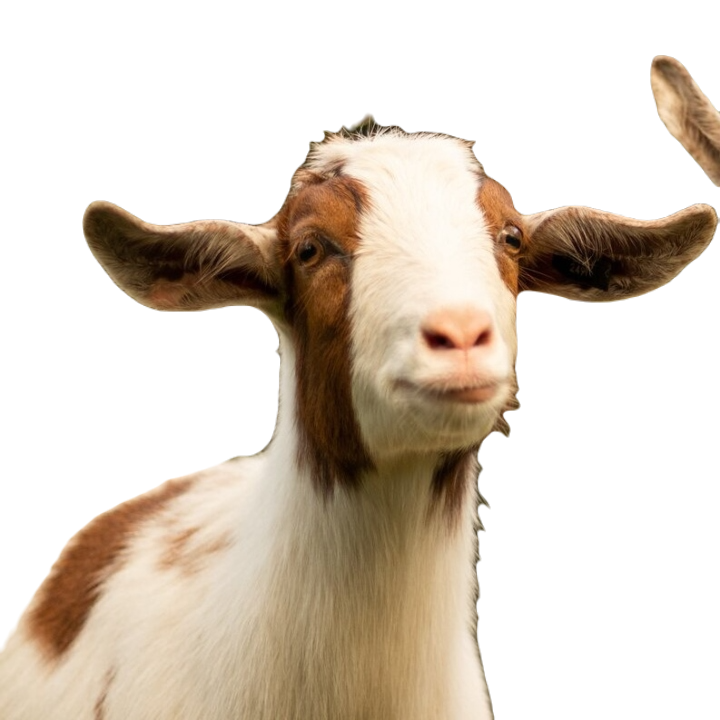Goat: (0, 117, 717, 717)
